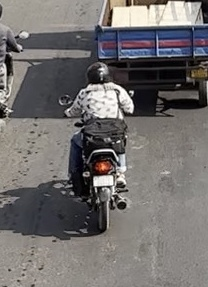BikeWithRider: (55, 59, 144, 236)
Helmet: (84, 57, 112, 88)
